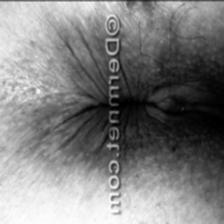Non-Cancerous Skin Condition: (122, 0, 156, 17)
